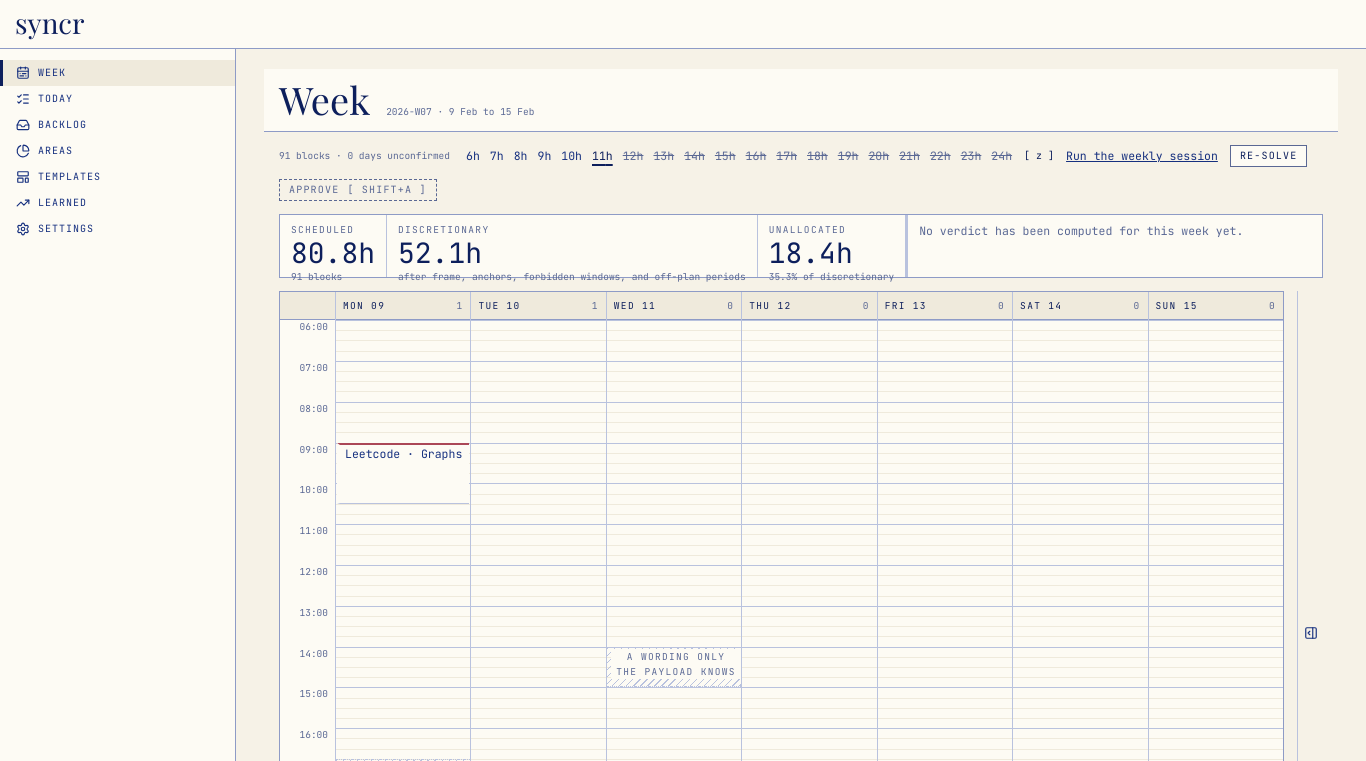
Test case: the drag that issues no request › cancels on Escape, with no request and no marker
The width and height of the screenshot is (1366, 761).
Press the mouse on the button "Leetcode · Graphs": (403, 473) [337,442,469,504]
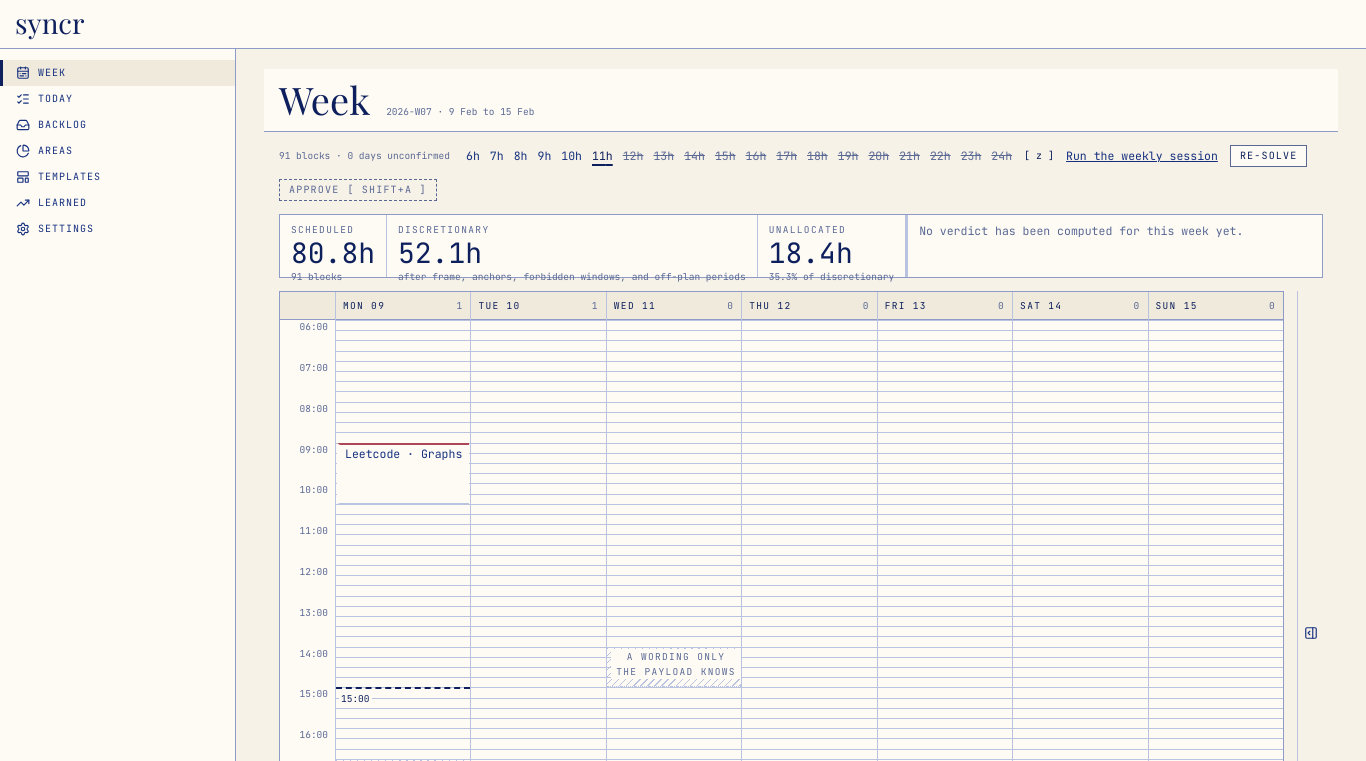
Press Escape
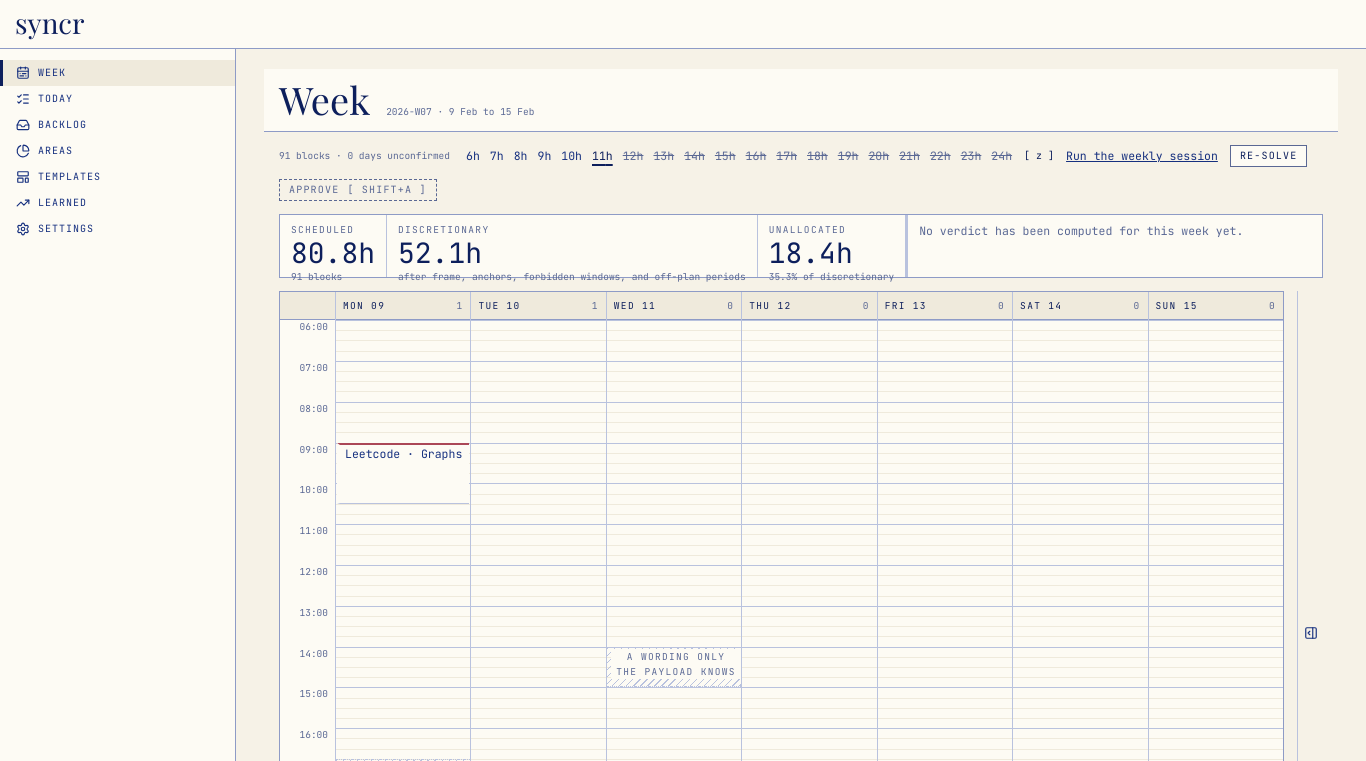
Check: the element with class "week-insertion" is gone
